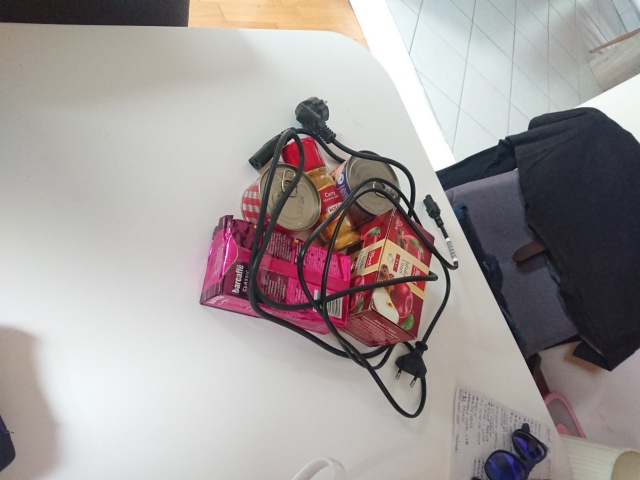Barcaffe Classic Original 225g: (197, 212, 356, 338)
Franck Apple Cinnamon Tea 60g: (333, 205, 438, 350)
Giana Tuna Salad Mexico 185g: (326, 153, 403, 232)
Kotanyi Curry Spices Mix 70g: (280, 135, 364, 253)
Podravka Luncheon Meat 150g: (238, 160, 324, 239)
